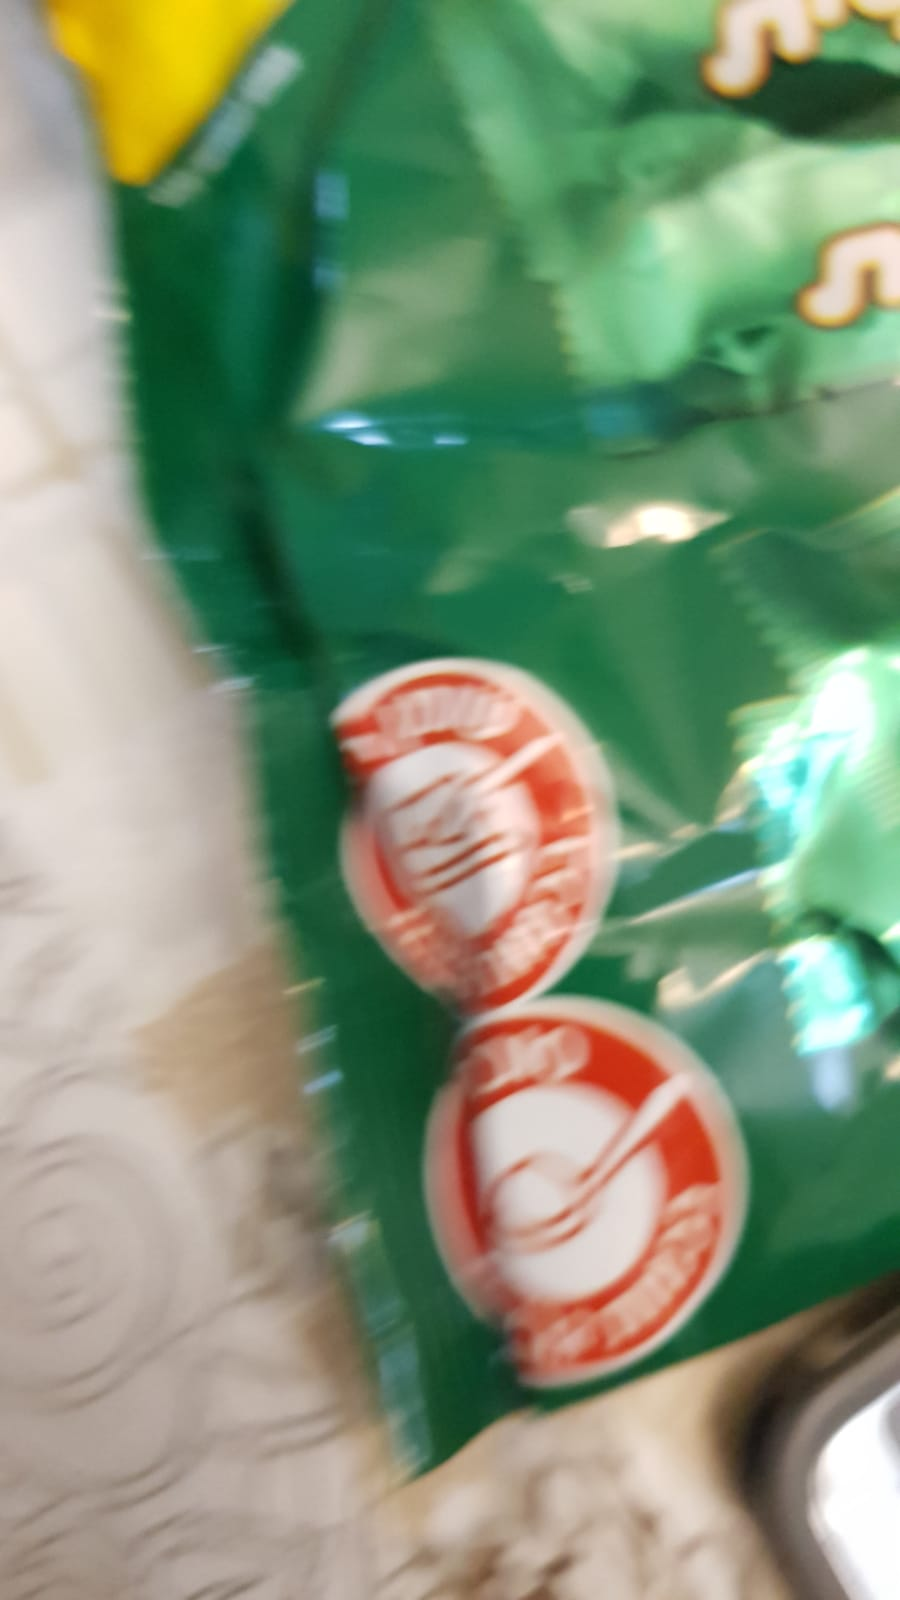fat: (324, 662, 622, 1020)
sugar: (416, 1000, 747, 1396)
